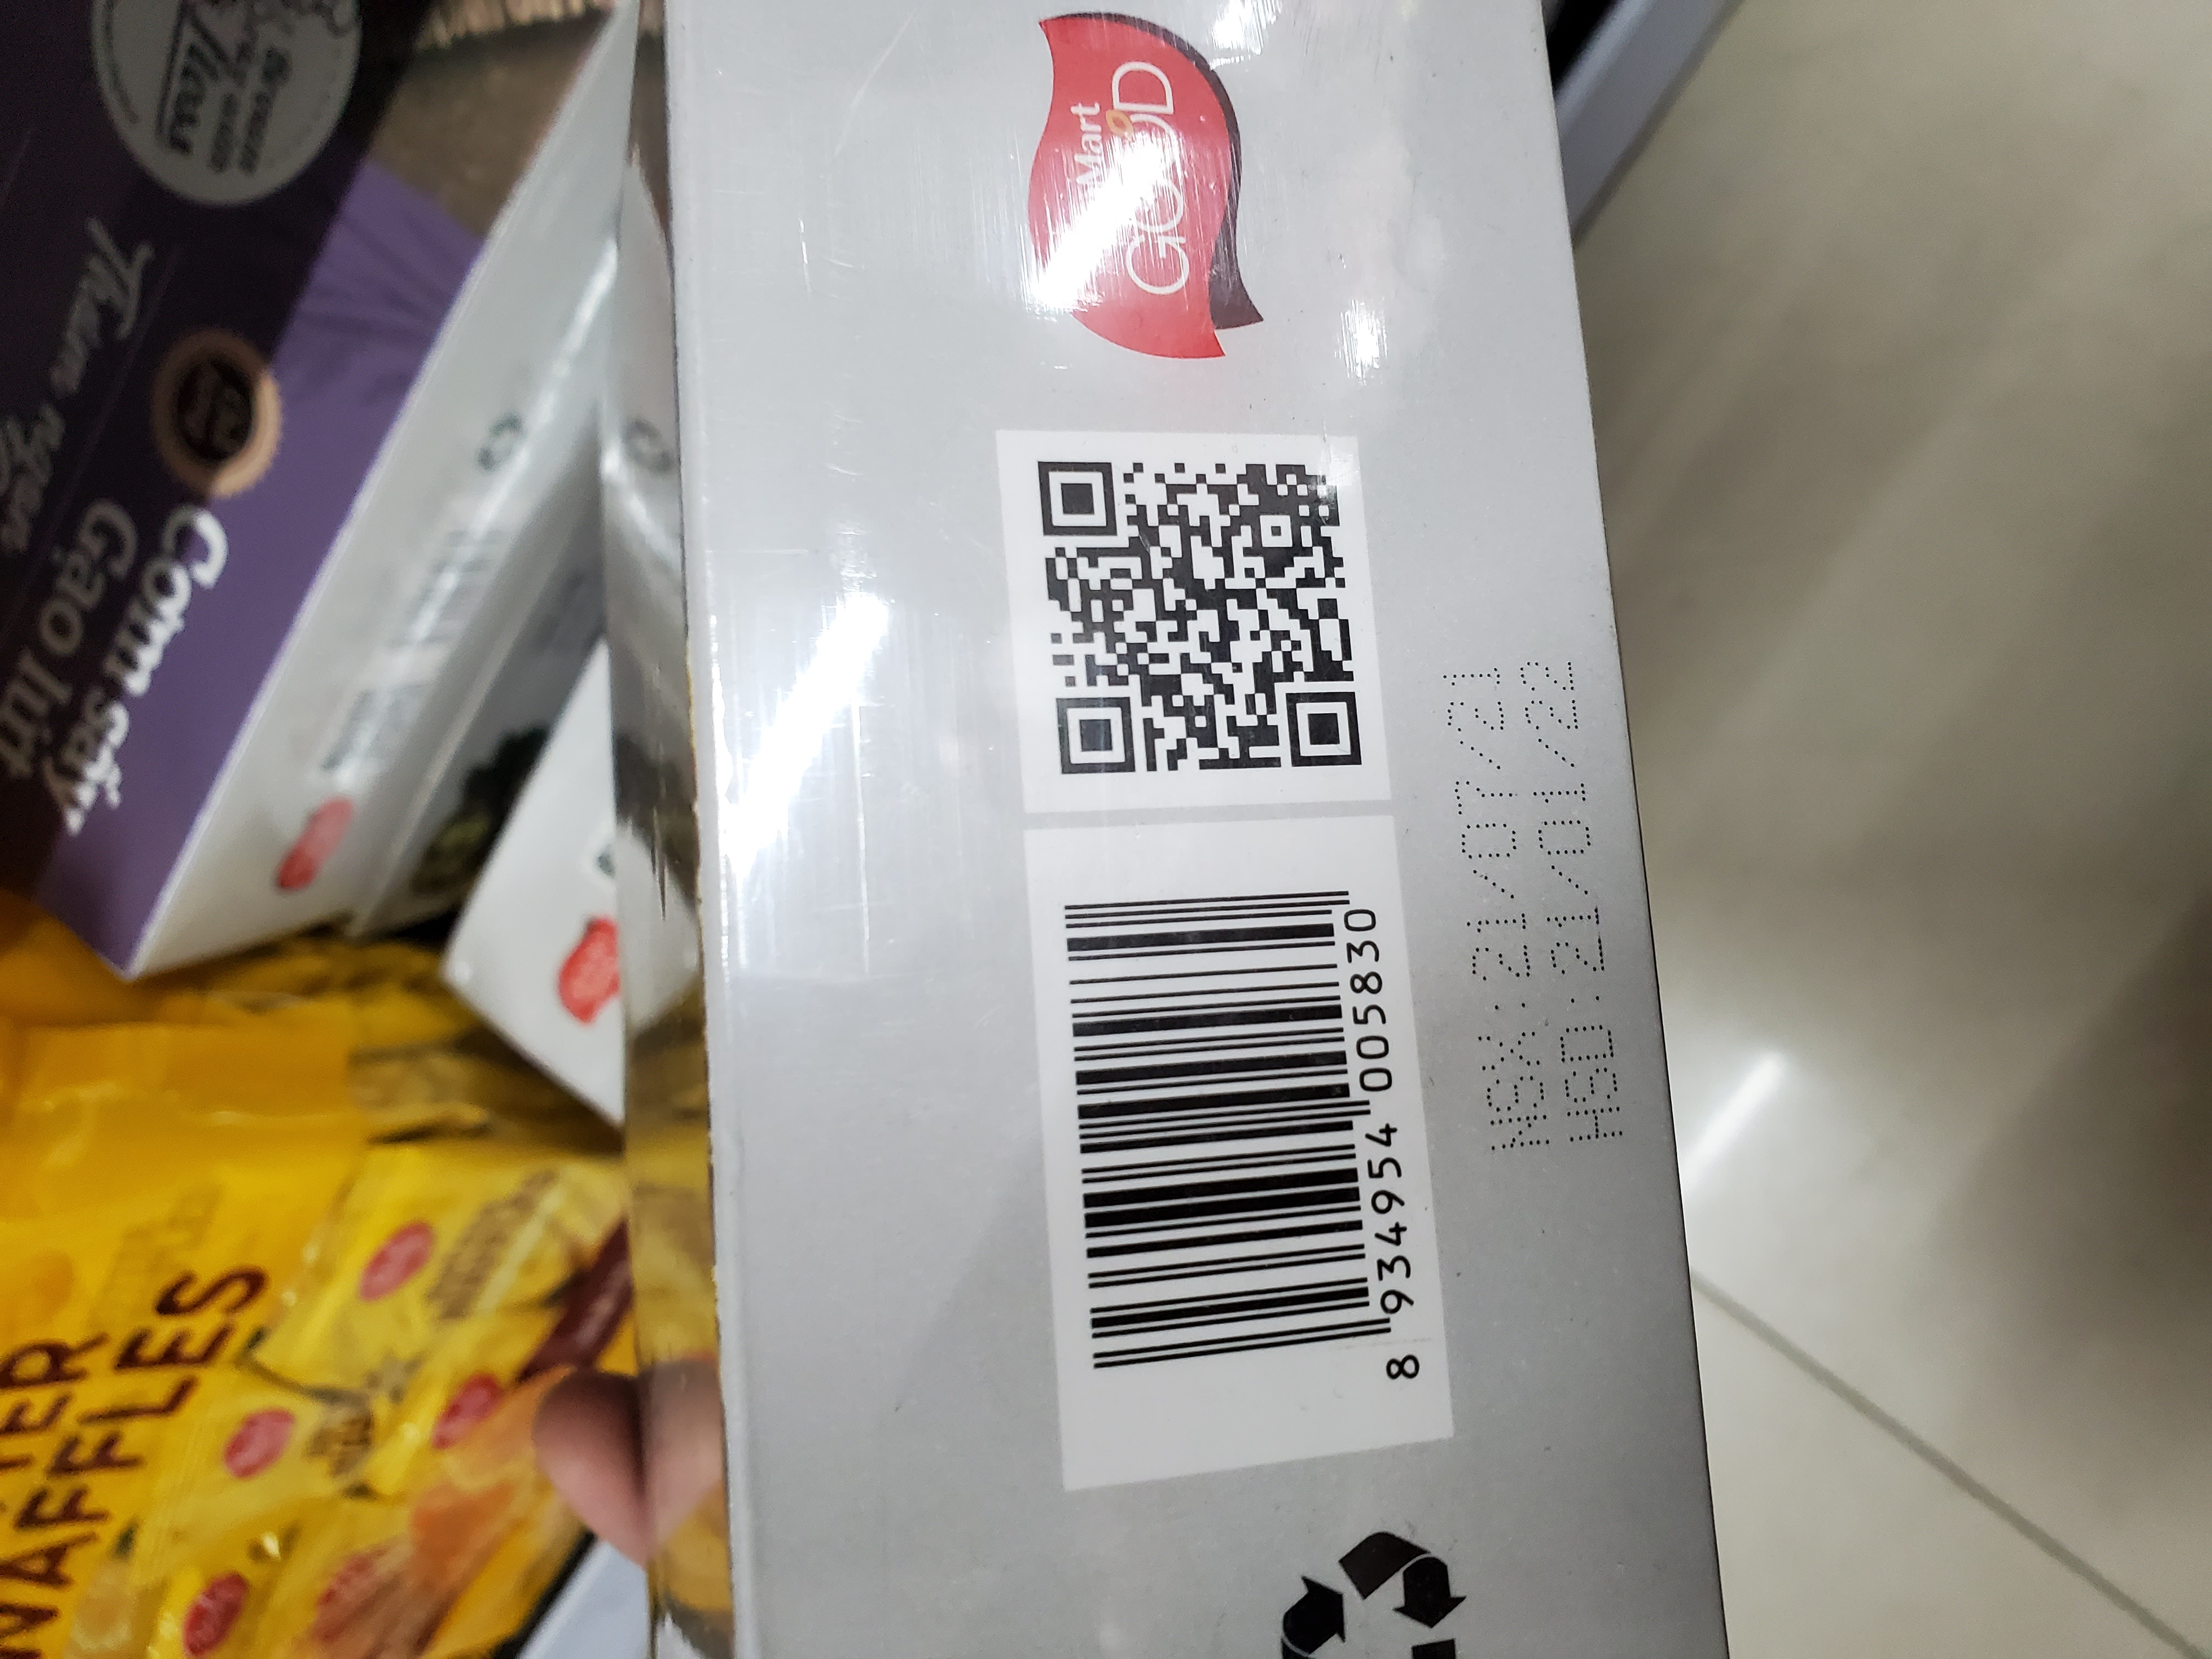barcode: (1017, 835, 1468, 1473)
qr code: (1010, 423, 1388, 798)
